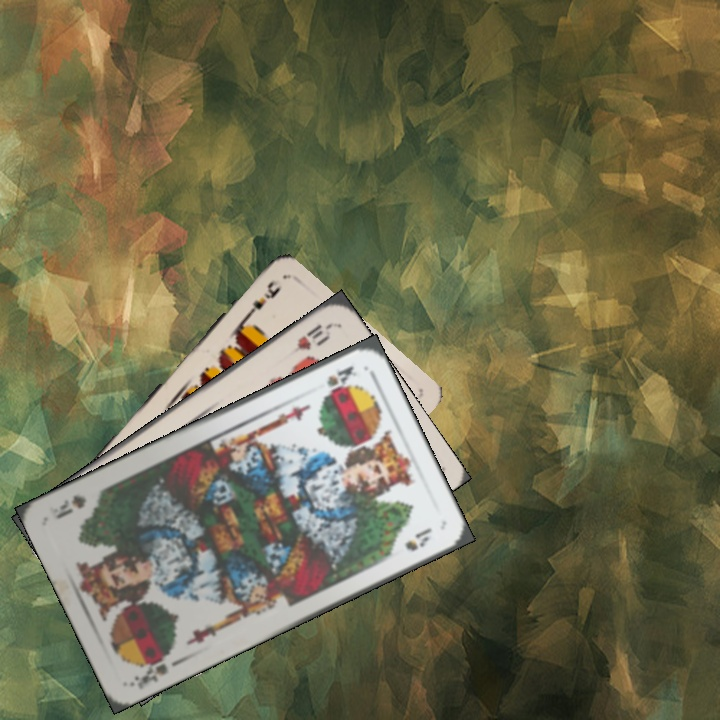E9: (239, 275, 284, 324)
H10: (283, 319, 334, 359)
SK: (127, 648, 174, 692), (323, 361, 359, 395)
